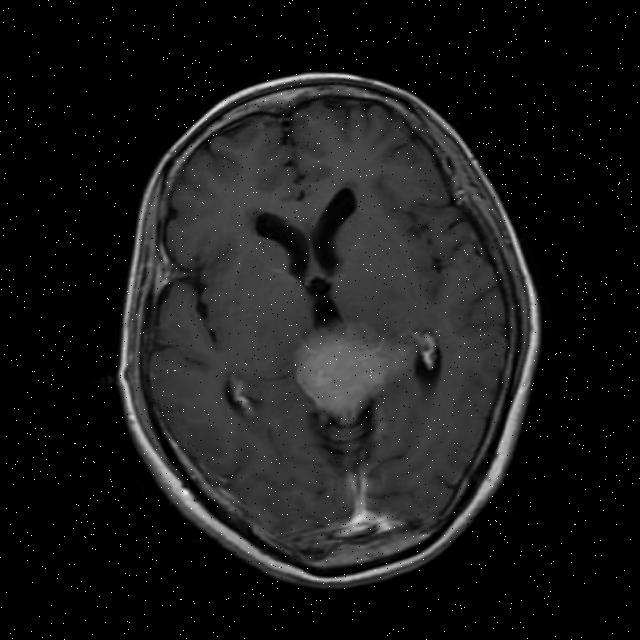Meningioma: (288, 316, 394, 431)
